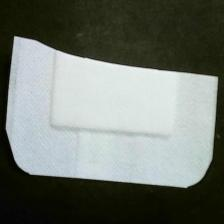Cut: (7, 35, 221, 192)
